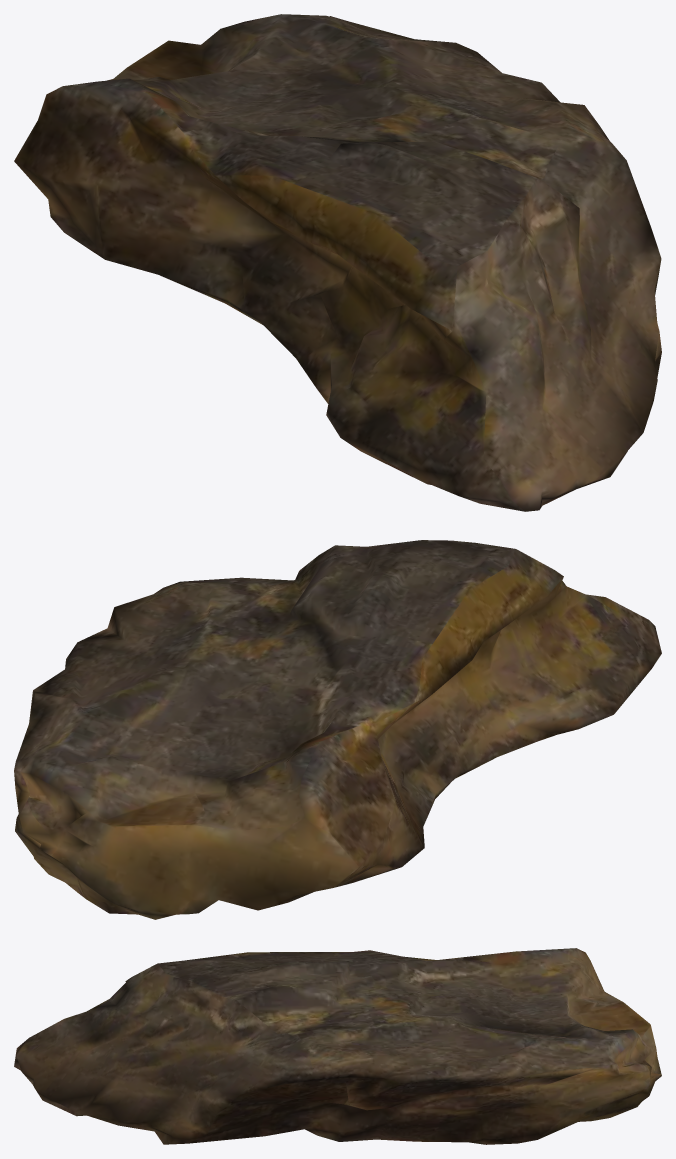
File: rock.glb
3 renders of one model, top to bottom at view 1: azimuth 30°, elevation 25°; view 2: azimuth 150°, elevation 25°; view 3: azimuth 270°, elevation 25°, orthographic. The views are drawn at different scales.
Visible parts, largest first — view 1: rock_09_LOD0; view 2: rock_09_LOD0; view 3: rock_09_LOD0.
Boxes of the visible parts, left/top/right/bottom form: rock_09_LOD0: left=14, top=14, right=661, bottom=511; rock_09_LOD0: left=14, top=540, right=661, bottom=919; rock_09_LOD0: left=14, top=948, right=661, bottom=1144.
Bounding box in the file's own units: 0.0738 × 0.0326 × 0.1446.
1 material, 1 textured.
